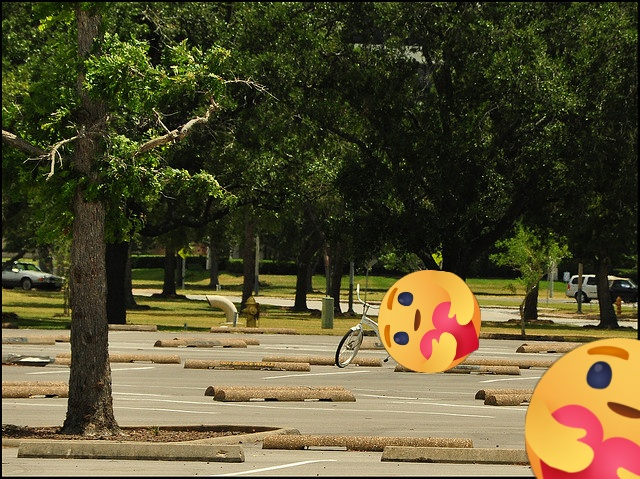care: (525, 338, 640, 479), (378, 270, 481, 373)
